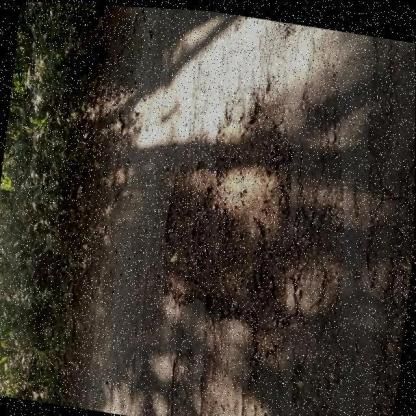pothole: (149, 66, 339, 362)
